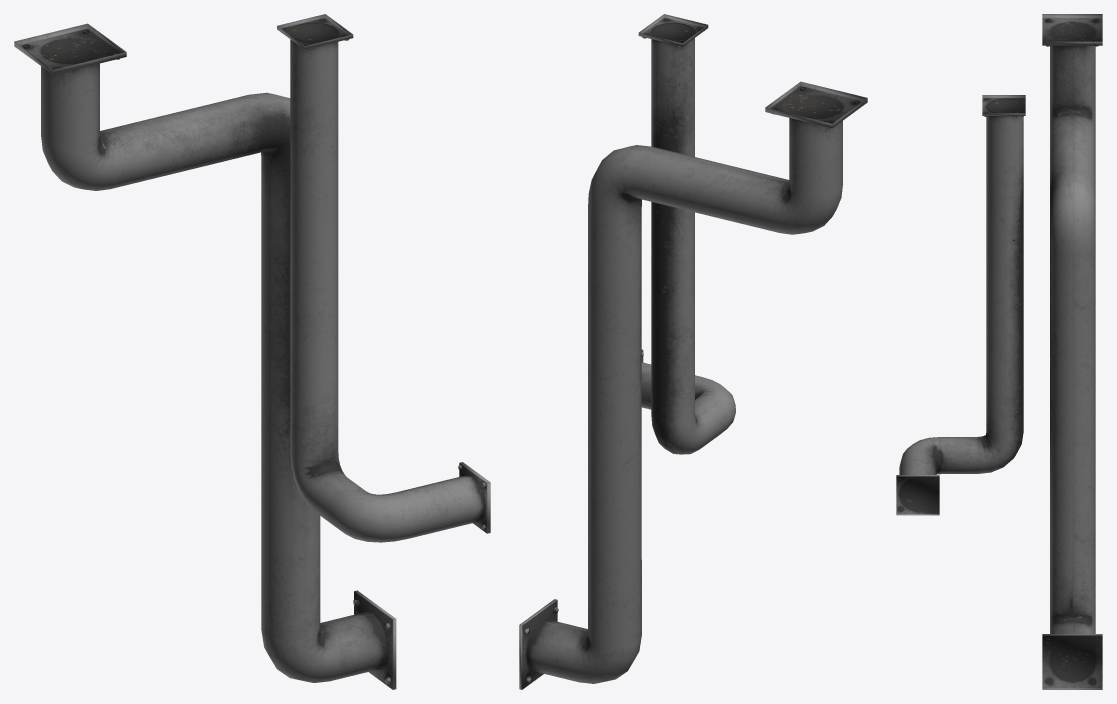
The model's file is pipes.glb.
The picture shows the model from 3 angles, left to right: view 1: azimuth 30°, elevation 25°; view 2: azimuth 150°, elevation 25°; view 3: azimuth 270°, elevation 25°; orthographic projection. The views are drawn at different scales.
Parts seen in each view (by area): view 1: TF2_FS_Pipe; view 2: TF2_FS_Pipe; view 3: TF2_FS_Pipe.
Part boxes in pixels (x1,y1,x2,y2): TF2_FS_Pipe: (14, 14, 490, 689); TF2_FS_Pipe: (519, 14, 867, 689); TF2_FS_Pipe: (896, 14, 1102, 689).
Size of the model in its own units: 170 by 332 by 114.
1 material, 1 textured.
